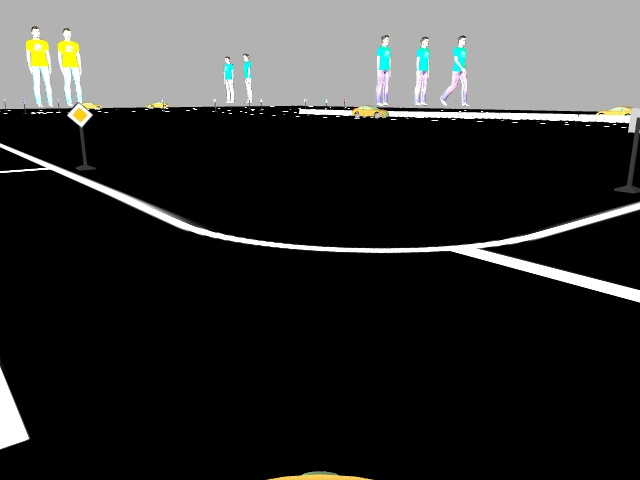Priority: (66, 104, 91, 126)
